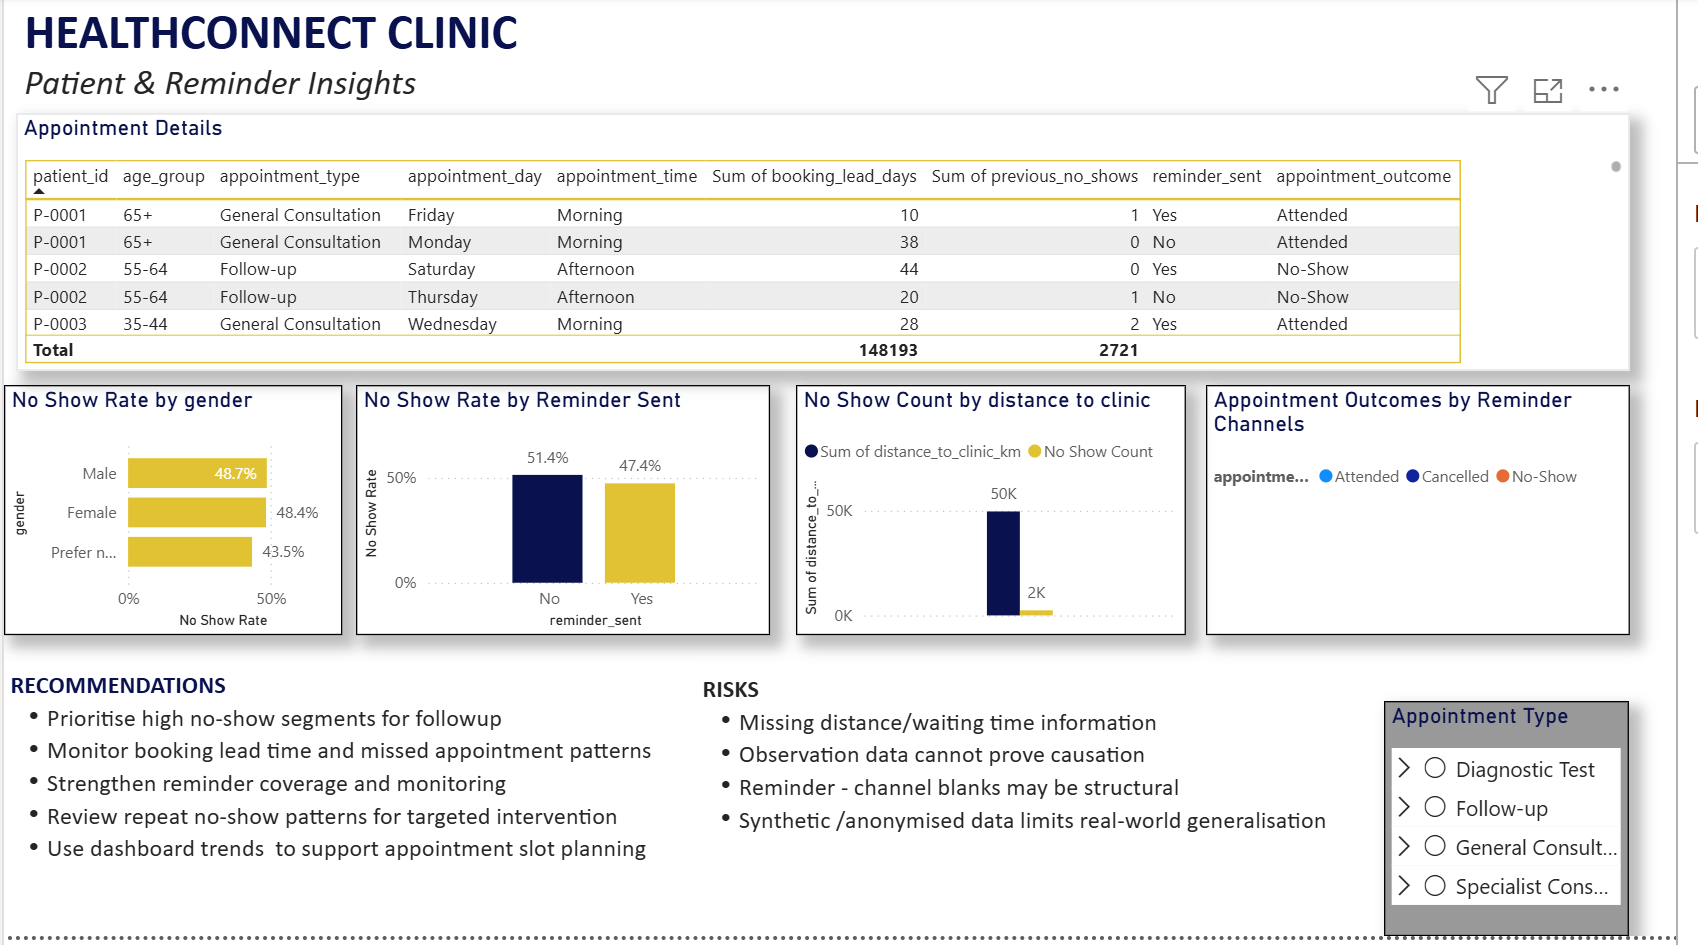

What the dashboard file says about the page in this screenshot:
{"tool":"powerbi","page":{"name":"Patient & Remainder Insights","canvas":[1280,720],"ordinal":2},"visuals":[{"type":"textbox","box":[10.7,0,851.3,90.3],"z":0},{"type":"barChart","fields":{"Category":["HC Appointments.gender"],"Y":["HC Appointments.No Show Rate"]},"box":[0,298.6,258.8,191.4],"z":1000},{"type":"clusteredColumnChart","title":"No Show Rate by Reminder Sent","fields":{"Category":["HC Appointments.reminder_sent"],"Y":["HC Appointments.No Show Rate"]},"box":[269.5,298.6,316.9,191.4],"z":2000},{"type":"tableEx","title":"Appointment Details","fields":{"Values":["HC Appointments.patient_id","HC Appointments.age_group","HC Appointments.appointment_type","HC Appointments.appointment_day","HC Appointments.appointment_time","Sum(HC Appointments.booking_lead_days)","Sum(HC Appointments.previous_no_shows)","HC Appointments.reminder_sent","HC Appointments.appointment_outcome"]},"box":[9.2,90.3,1235.6,197.5],"z":3000},{"type":"listSlicer","title":"Appointment Type ","fields":{"Values":["HC Appointments.appointment_type","HC Appointments.appointment_date.Variation.Date Hierarchy.Year","HC Appointments.appointment_date.Variation.Date Hierarchy.Quarter","HC Appointments.appointment_date.Variation.Date Hierarchy.Month","HC Appointments.appointment_date.Variation.Date Hierarchy.Day","HC Appointments.appointment_date.Variation.Date Hierarchy.Year","HC Appointments.appointment_date.Variation.Date Hierarchy.Quarter","HC Appointments.appointment_date.Variation.Date Hierarchy.Month","HC Appointments.appointment_date.Variation.Date Hierarchy.Day"]},"box":[1056.5,540.5,187.6,179.8],"z":4000},{"type":"textbox","box":[0,512,529.6,164.2],"z":5000},{"type":"textbox","box":[529.8,514.4,509.9,160.8],"z":6000},{"type":"hundredPercentStackedColumnChart","title":"Appointment Outcomes by Reminder Channels","fields":{"Category":["HC Appointments.reminder_channel"],"Series":["HC Appointments.appointment_outcome"]},"box":[920.2,298.6,324.6,191.4],"z":7000},{"type":"clusteredColumnChart","title":"No Show Count by distance to clinic","fields":{"Y":["Sum(HC Appointments.distance_to_clinic_km)","HC Appointments.No Show Count"]},"box":[606.3,298.6,298.6,191.4],"z":8000}]}

Visuals, with their boxes in screenshot pixels (x1, y1, x2, y2), scaled from the page's 1280x720 canvas onto the 1698x945 screenshot:
textbox: (14,0,1143,119)
barChart - HC Appointments.gender x HC Appointments.No Show Rate: (0,392,343,643)
"No Show Rate by Reminder Sent" clusteredColumnChart: (358,392,778,643)
"Appointment Details" tableEx: (12,119,1651,378)
"Appointment Type " listSlicer: (1402,709,1650,944)
textbox: (0,672,703,888)
textbox: (703,675,1379,886)
"Appointment Outcomes by Reminder Channels" hundredPercentStackedColumnChart: (1221,392,1651,643)
"No Show Count by distance to clinic" clusteredColumnChart: (804,392,1200,643)
